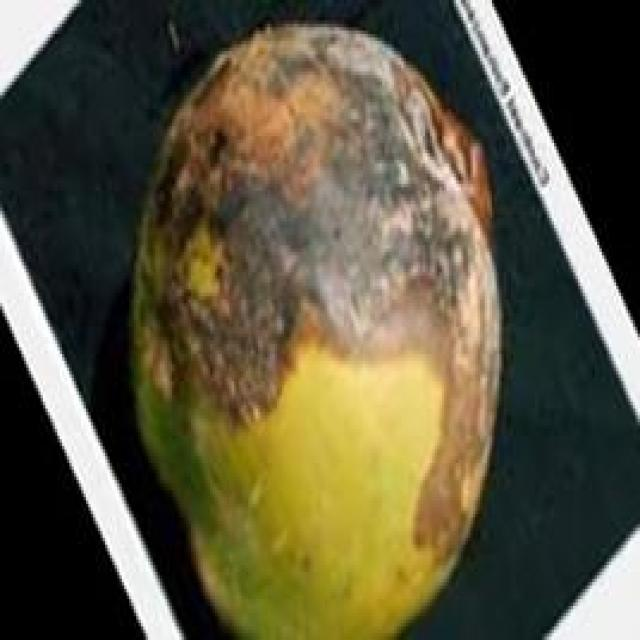damaged: (134, 24, 499, 637)
